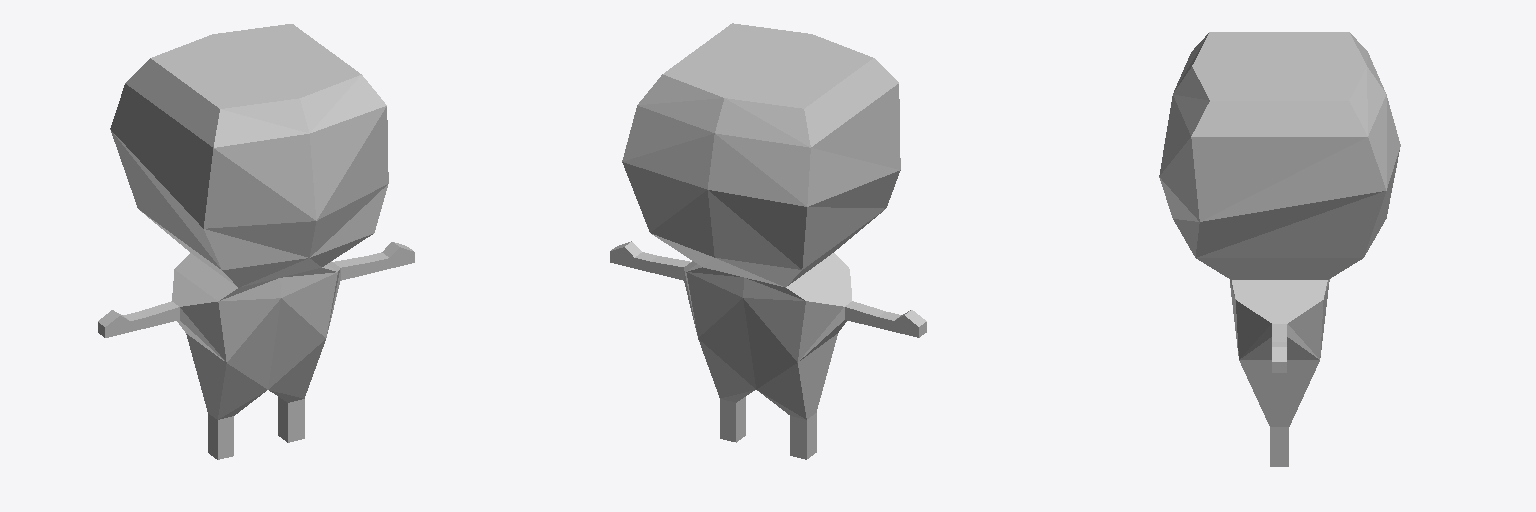
Rendered from giggio.obj.
The picture shows the model from 3 angles: view 1: azimuth 30°, elevation 25°; view 2: azimuth 150°, elevation 25°; view 3: azimuth 270°, elevation 25°; orthographic projection.
Parts seen in each view (by area): view 1: Cube.004_Cube.002; view 2: Cube.004_Cube.002; view 3: Cube.004_Cube.002.
Part boxes in pixels (left/top/right/bottom): Cube.004_Cube.002: left=98, top=24, right=414, bottom=459; Cube.004_Cube.002: left=610, top=23, right=926, bottom=459; Cube.004_Cube.002: left=1159, top=32, right=1400, bottom=466.
Size of the model in its own units: 1.67 by 1.96 by 1.13.